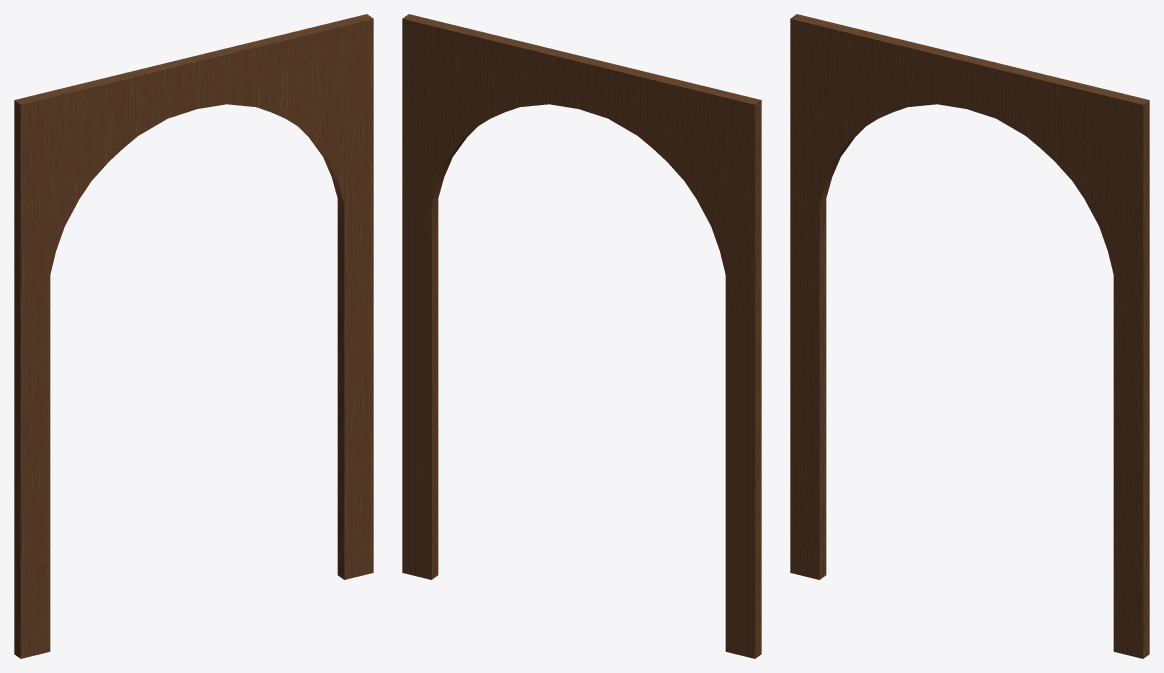
Rendered from arch.glb.
3 renders of one model, left to right at view 1: azimuth 30°, elevation 25°; view 2: azimuth 150°, elevation 25°; view 3: azimuth 330°, elevation 25°, orthographic.
Visible parts, largest first — view 1: Wall_Arch; view 2: Wall_Arch; view 3: Wall_Arch.
Part boxes in pixels (left/top/right/bottom): Wall_Arch: left=14, top=14, right=373, bottom=658; Wall_Arch: left=402, top=14, right=761, bottom=658; Wall_Arch: left=790, top=14, right=1149, bottom=658.
Size of the model in its own units: 2 by 3 by 0.064.
Materials: 1 (1 with a texture image).
